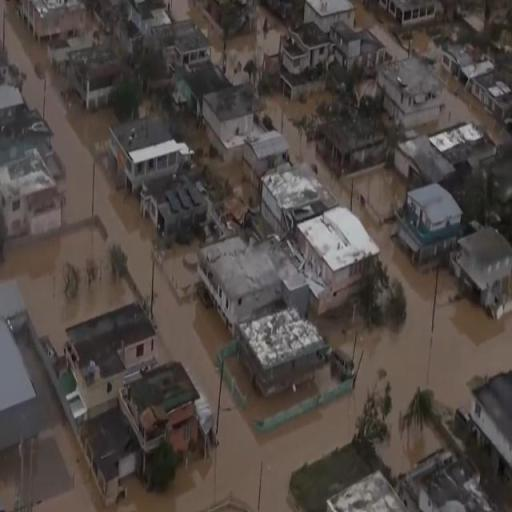flood: (0, 2, 512, 512), (356, 4, 509, 146), (0, 338, 112, 512), (191, 0, 289, 85)
house: (1, 60, 70, 258), (56, 295, 161, 415), (117, 362, 202, 478), (298, 204, 379, 308), (238, 310, 331, 398), (192, 233, 277, 324), (108, 116, 190, 199), (400, 178, 466, 267), (455, 222, 512, 324), (412, 121, 497, 186), (470, 365, 512, 491), (406, 449, 490, 512), (69, 42, 133, 117), (260, 164, 330, 225), (319, 117, 390, 177), (382, 58, 442, 128), (280, 27, 334, 99), (204, 88, 253, 166), (320, 470, 410, 512), (152, 179, 205, 246), (22, 0, 80, 43), (369, 0, 445, 31), (167, 26, 214, 74), (245, 130, 289, 174), (441, 41, 486, 83), (477, 76, 511, 124), (304, 0, 354, 26)
